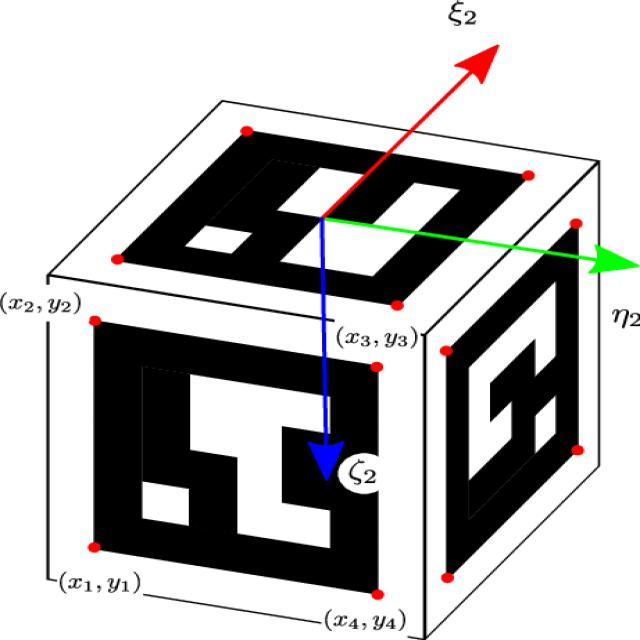aruco: (0, 297, 386, 631), (120, 65, 514, 327), (420, 227, 626, 587)
